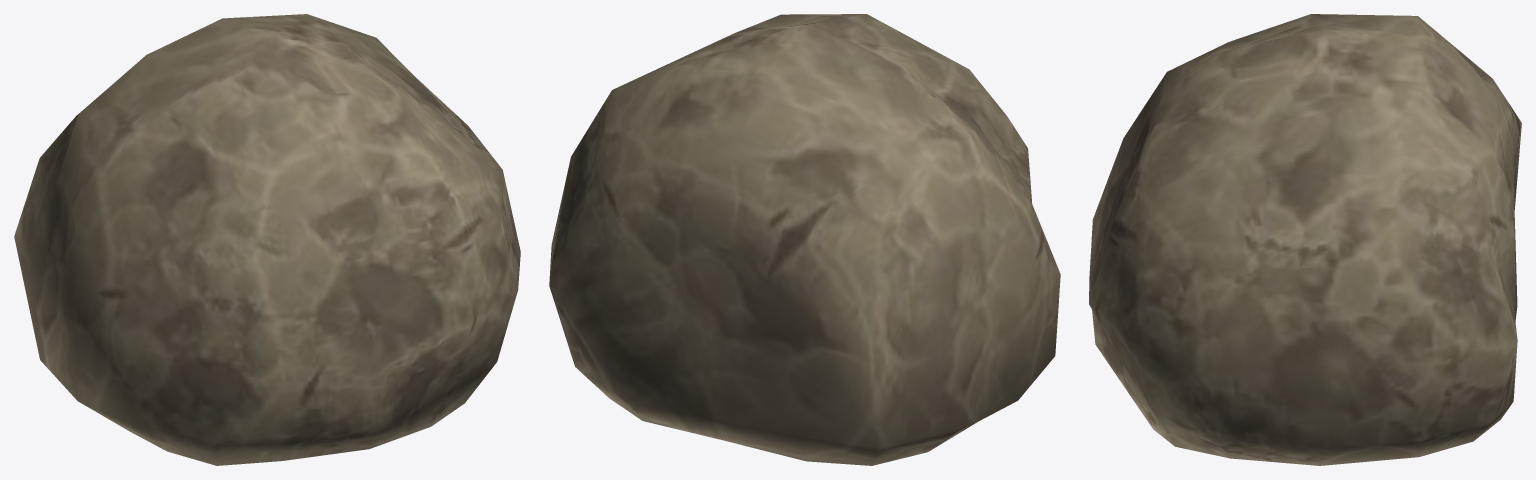
Rendered from cayou.fbx.
The picture shows the model from 3 angles, left to right: view 1: azimuth 30°, elevation 25°; view 2: azimuth 150°, elevation 25°; view 3: azimuth 270°, elevation 25°; orthographic projection. The views are drawn at different scales.
Parts seen in each view (by area): view 1: cayou; view 2: cayou; view 3: cayou.
Part boxes in pixels (bbox=[...]): cayou: bbox=[14, 14, 520, 465]; cayou: bbox=[549, 14, 1060, 465]; cayou: bbox=[1089, 14, 1521, 465].
Size of the model in its own units: 153 by 127 by 137.
